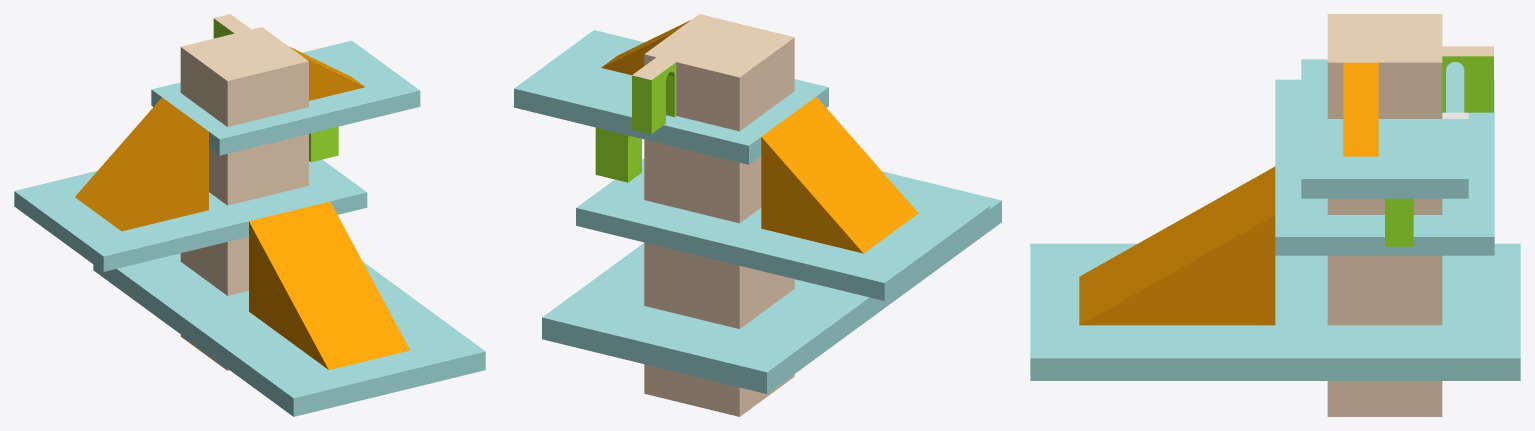
File: concept escenario.fbx
3 renders of one model, left to right at view 1: azimuth 30°, elevation 25°; view 2: azimuth 150°, elevation 25°; view 3: azimuth 270°, elevation 25°, orthographic. The views are drawn at different scales.
Parts seen in each view (by area): view 1: Model; view 2: Model; view 3: Model.
Part boxes in pixels (bbox=[...]): Model: bbox=[14, 14, 485, 416]; Model: bbox=[514, 14, 1001, 416]; Model: bbox=[1030, 14, 1520, 416].
Bounding box in the file's own units: 17.72 × 15 × 18.81.
